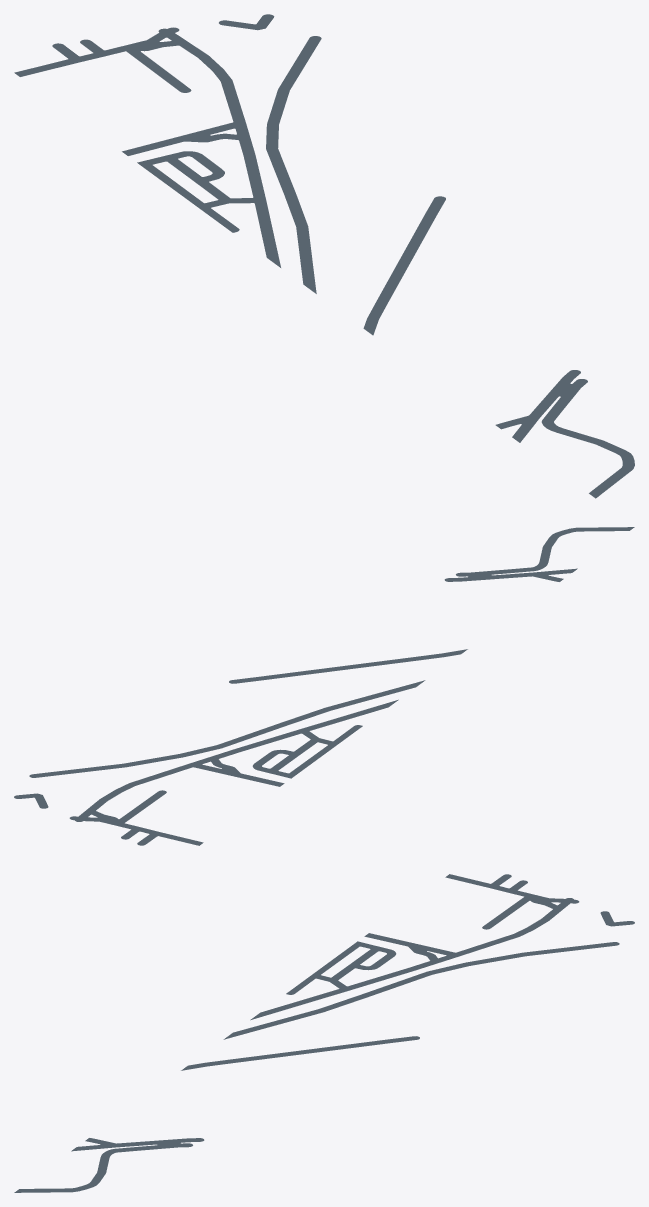
Rendered from SM_MPR_Env_Far_E_Roads.fbx.
3 renders of one model, top to bottom at view 1: azimuth 30°, elevation 25°; view 2: azimuth 150°, elevation 25°; view 3: azimuth 330°, elevation 25°, orthographic. The views are drawn at different scales.
Visible parts, largest first — view 1: SM_MPR_Env_Far_E_Roads; view 2: SM_MPR_Env_Far_E_Roads; view 3: SM_MPR_Env_Far_E_Roads.
Part boxes in pixels (x1,y1,x2,y2): SM_MPR_Env_Far_E_Roads: [14, 14, 634, 498]; SM_MPR_Env_Far_E_Roads: [14, 527, 634, 845]; SM_MPR_Env_Far_E_Roads: [14, 874, 634, 1192].
Size of the model in its own units: 20265 by 79180 by 0.
